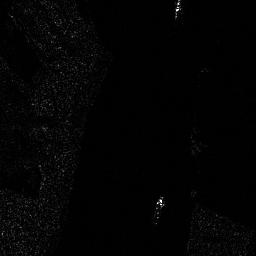ship: (154, 195, 164, 224)
